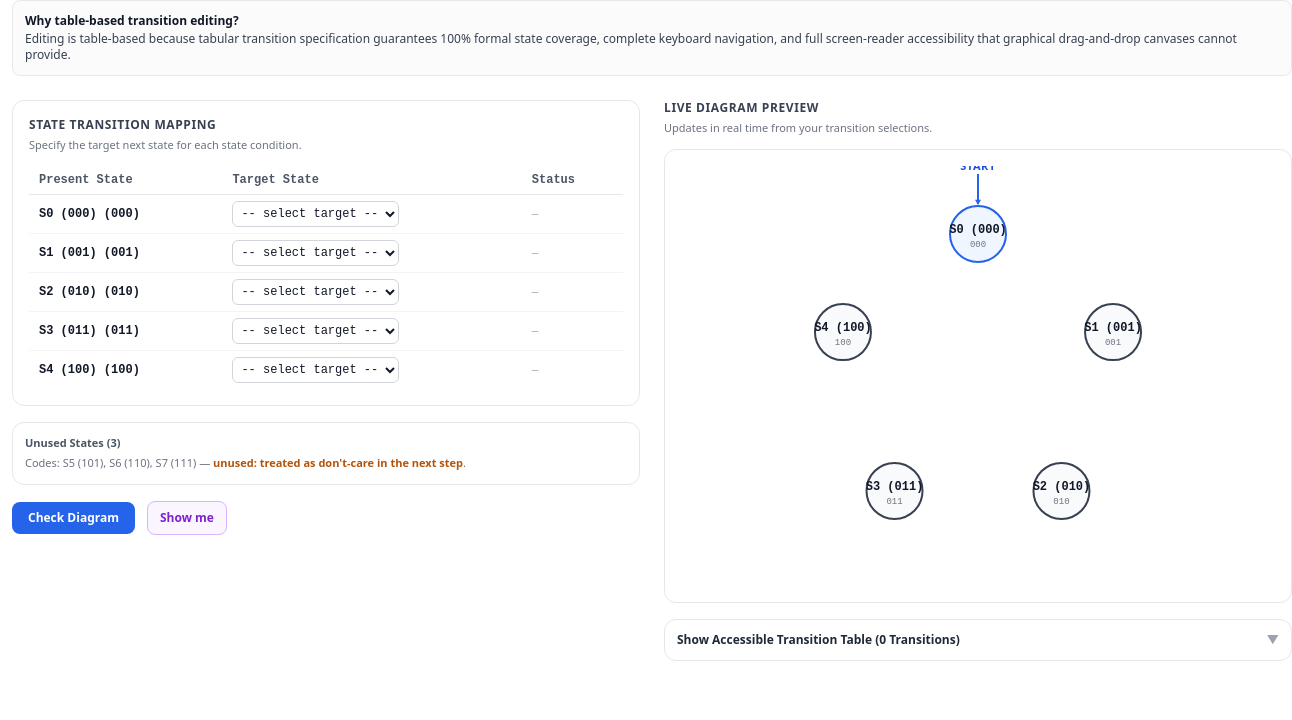
it: StateDiagramEditor component › builds the mod-5 counter diagram with the keyboard only and verifies it
Select "S1 (001) (001)" in the dropdown named "State S0 (000), target state" at (316, 214), box [232,200,399,226]
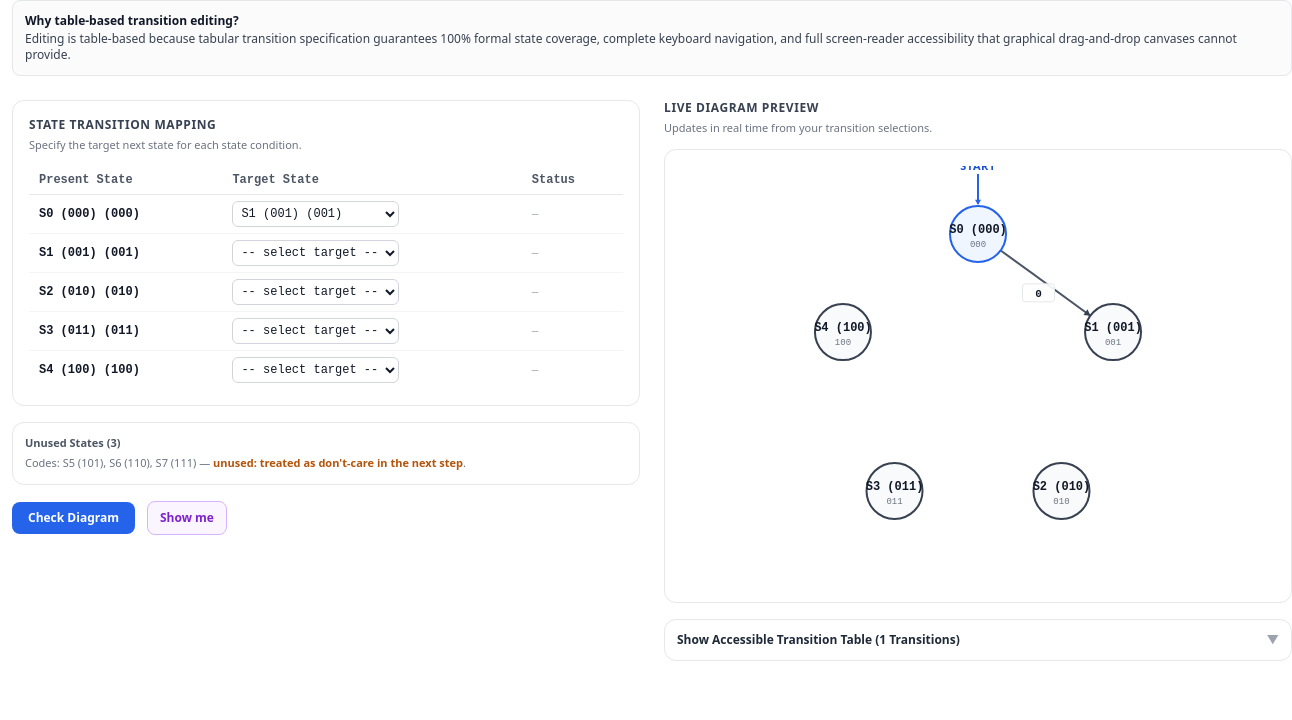
Select "S2 (010) (010)" in the dropdown named "State S1 (001), target state" at (316, 252), box [232,240,399,266]
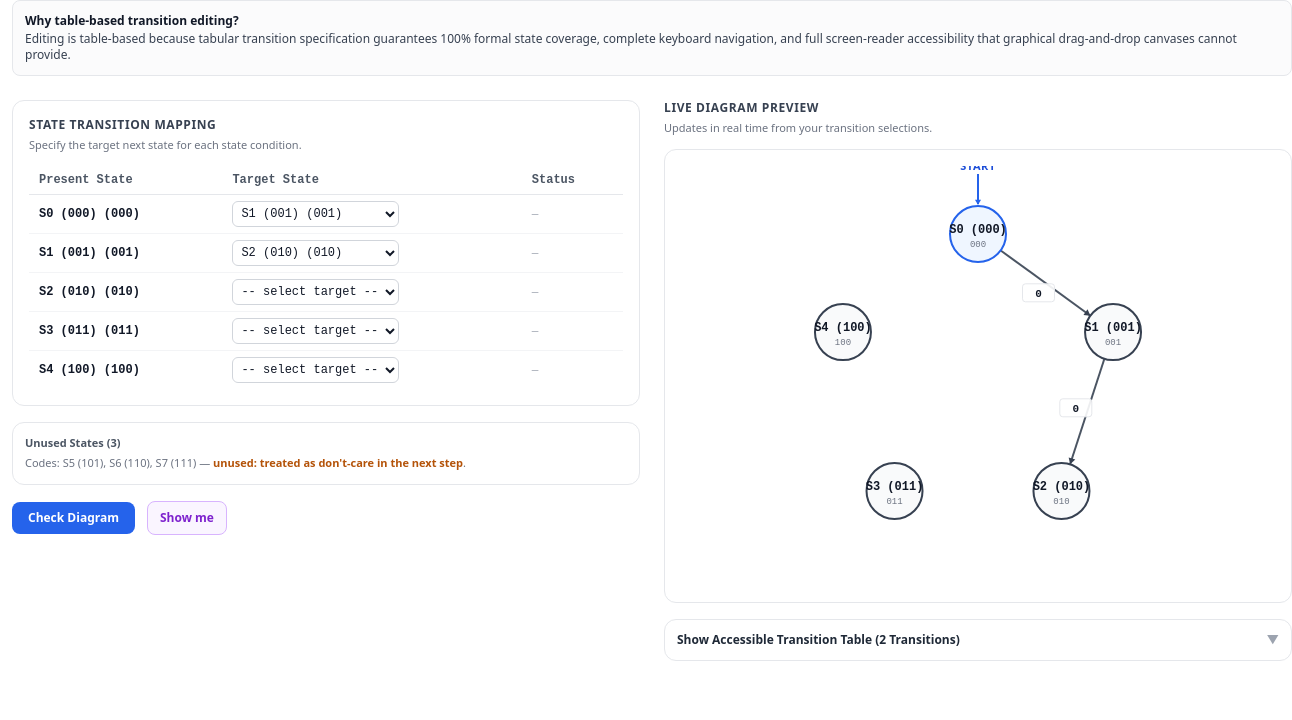
Select "S3 (011) (011)" in the dropdown named "State S2 (010), target state" at (316, 292), box [232,278,399,304]
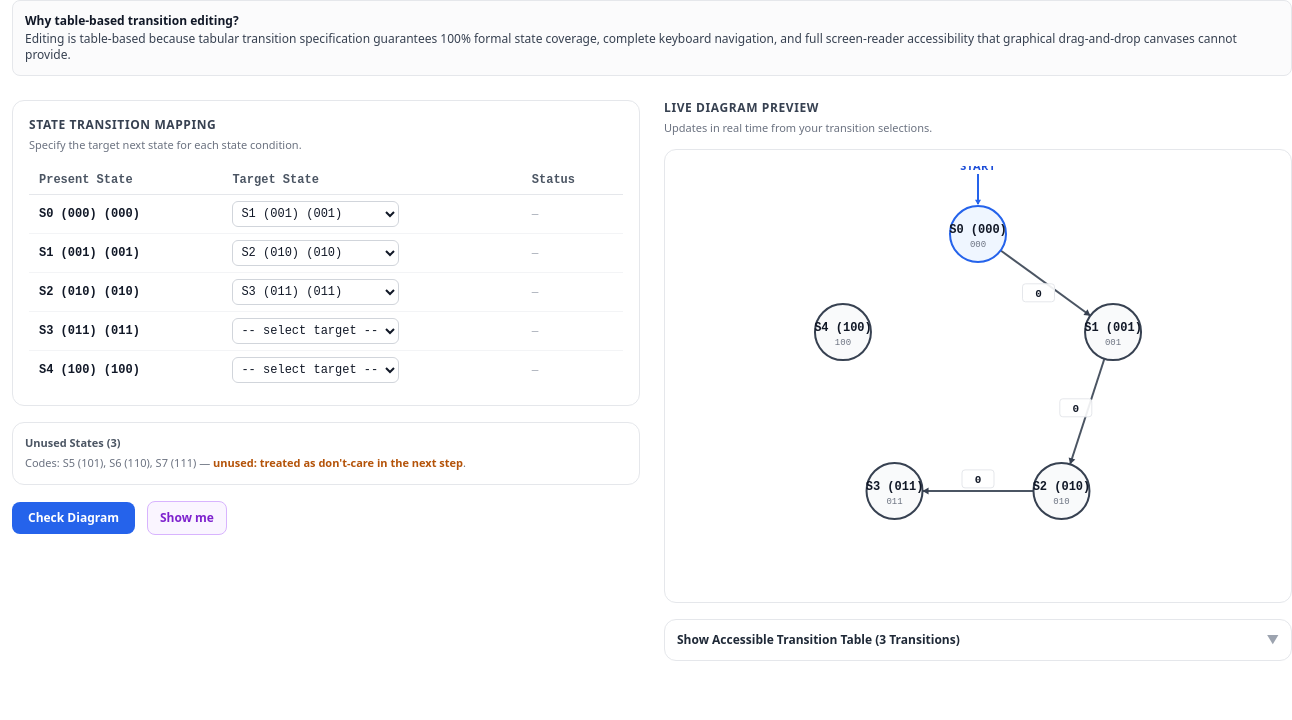
Select "S4 (100) (100)" in the dropdown named "State S3 (011), target state" at (316, 330), box [232,318,399,344]
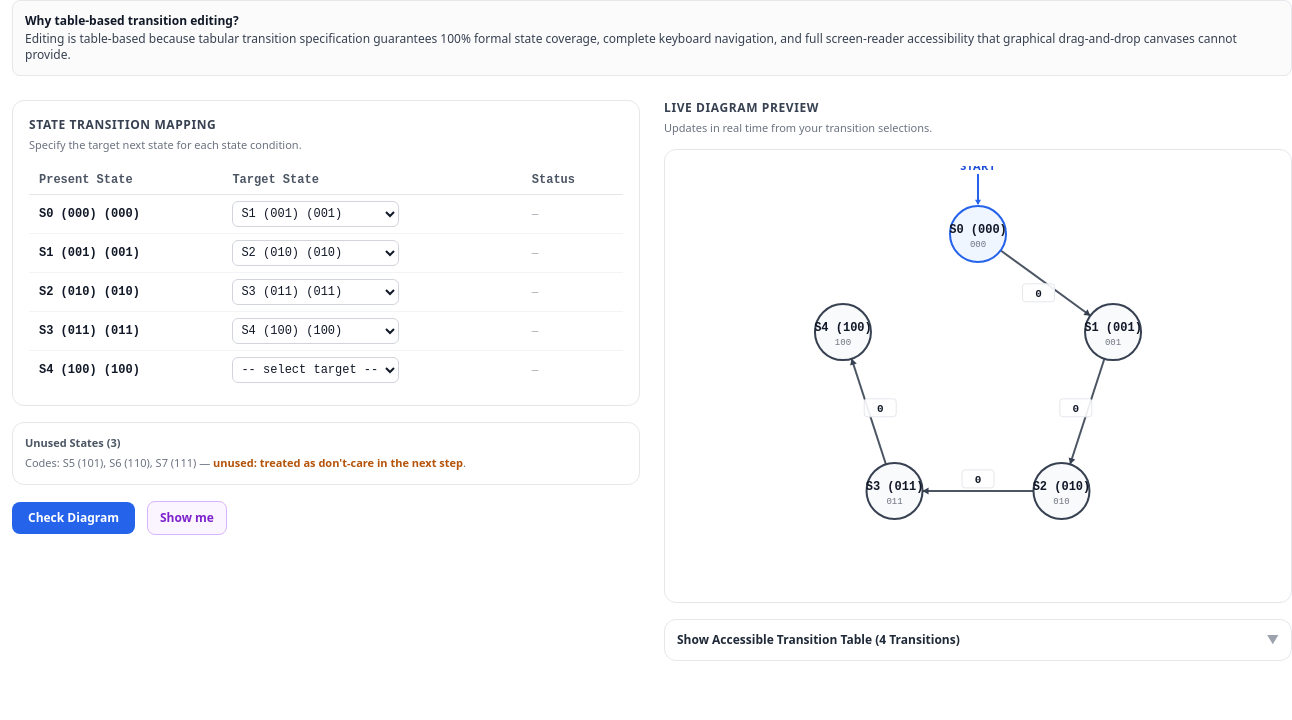
Select "S0 (000) (000)" in the dropdown named "State S4 (100), target state" at (316, 370), box [232,356,399,382]
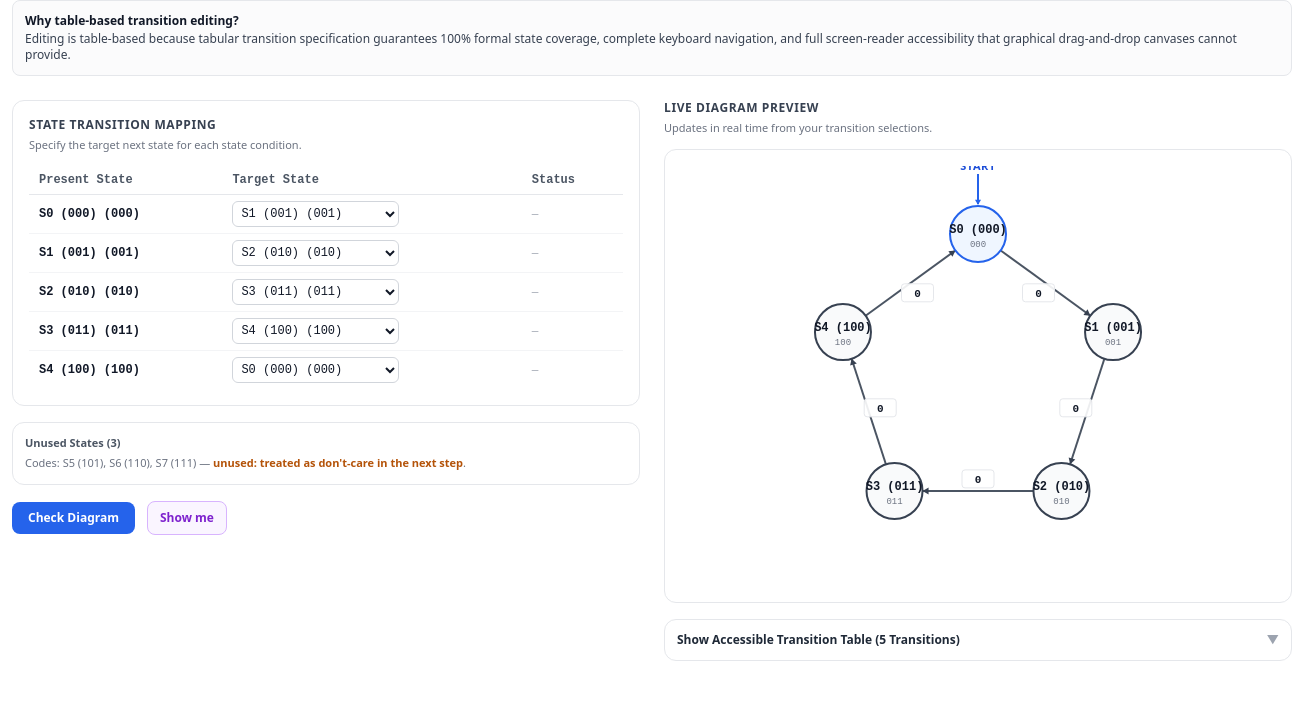
Click the button "Check Diagram" at (74, 518), box [12,502,135,534]
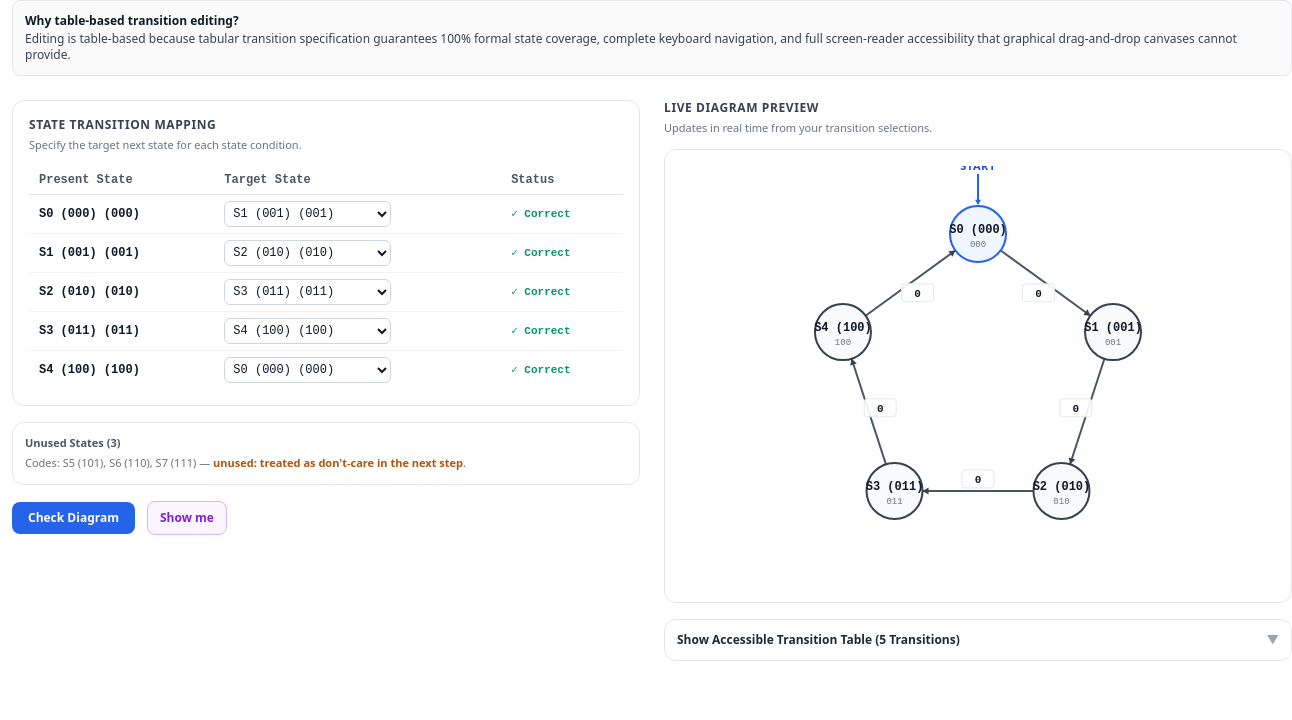
Now the text "✓ Correct" is shown 5 times, box [511,208,570,220]; [511,246,570,258]; [511,286,570,298]; [511,324,570,336]; [511,364,570,376]
